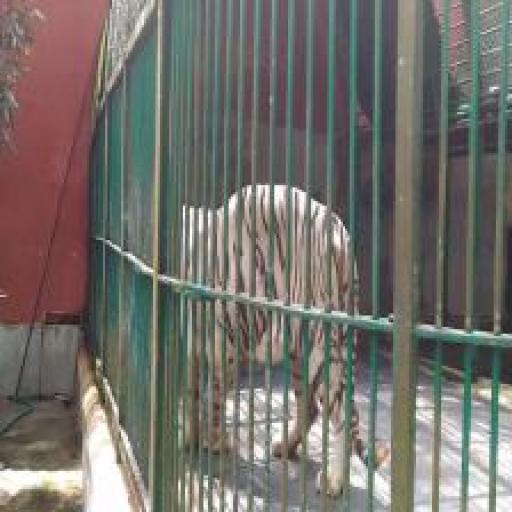Tiger: (185, 188, 391, 484)
